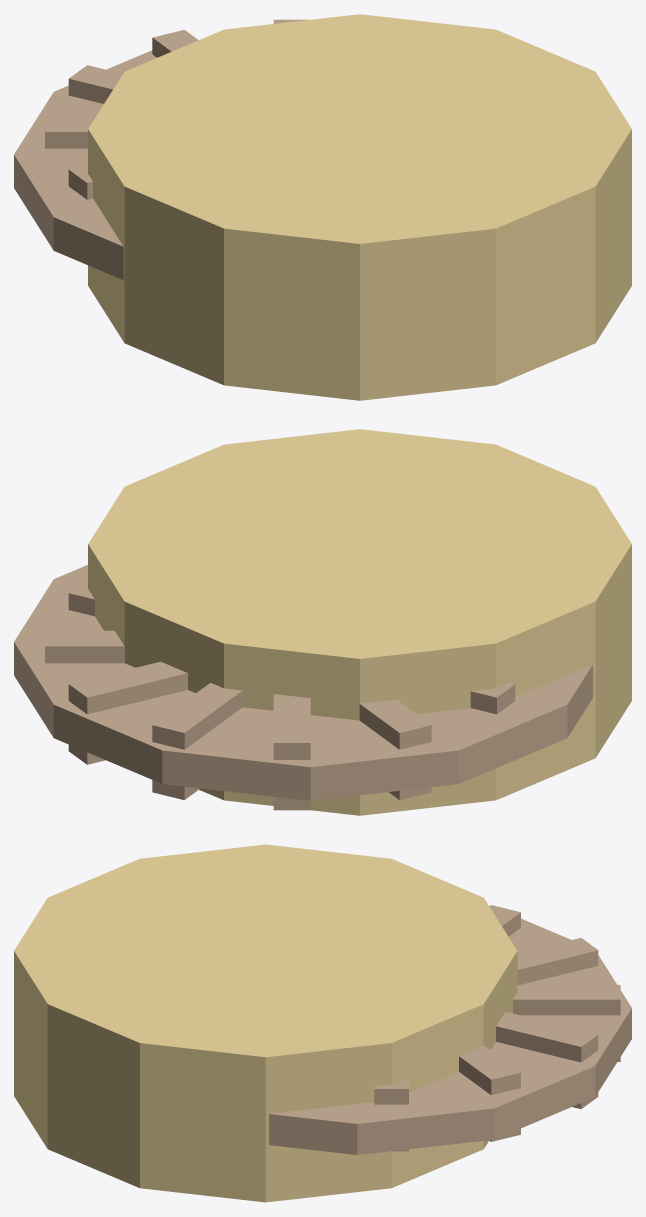
The model's file is steamer.glb.
The picture shows the model from 3 angles, top to bottom: view 1: azimuth 30°, elevation 25°; view 2: azimuth 150°, elevation 25°; view 3: azimuth 270°, elevation 25°; orthographic projection. The views are drawn at different scales.
Visible parts, largest first — view 1: body, rim, slat_5, slat_4, slat_3, slat_0; view 2: body, rim, slat_2, slat_3, slat_4, slat_5, slat_1, slat_0; view 3: body, rim, slat_3, slat_2, slat_4, slat_1, slat_0, slat_5.
Boxes of the visible parts, bbox=[...] form: body: bbox=[88, 14, 631, 400]; rim: bbox=[14, 50, 156, 279]; slat_5: bbox=[45, 116, 95, 148]; slat_4: bbox=[68, 65, 122, 103]; slat_3: bbox=[152, 30, 198, 57]; slat_0: bbox=[68, 165, 92, 199]; body: bbox=[88, 429, 631, 815]; rim: bbox=[14, 565, 592, 800]; slat_2: bbox=[68, 661, 187, 764]; slat_3: bbox=[152, 682, 242, 799]; slat_4: bbox=[273, 694, 310, 810]; slat_5: bbox=[359, 699, 431, 799]; slat_1: bbox=[45, 630, 124, 663]; slat_0: bbox=[68, 579, 515, 714]; body: bbox=[14, 844, 517, 1202]; rim: bbox=[269, 918, 631, 1154]; slat_3: bbox=[513, 985, 620, 1061]; slat_2: bbox=[496, 1012, 598, 1108]; slat_4: bbox=[517, 938, 598, 984]; slat_1: bbox=[459, 1045, 520, 1141]; slat_0: bbox=[374, 1077, 408, 1151]; slat_5: bbox=[489, 905, 520, 936].
Size of the model in its own units: 0.48 by 0.14 by 0.54.
